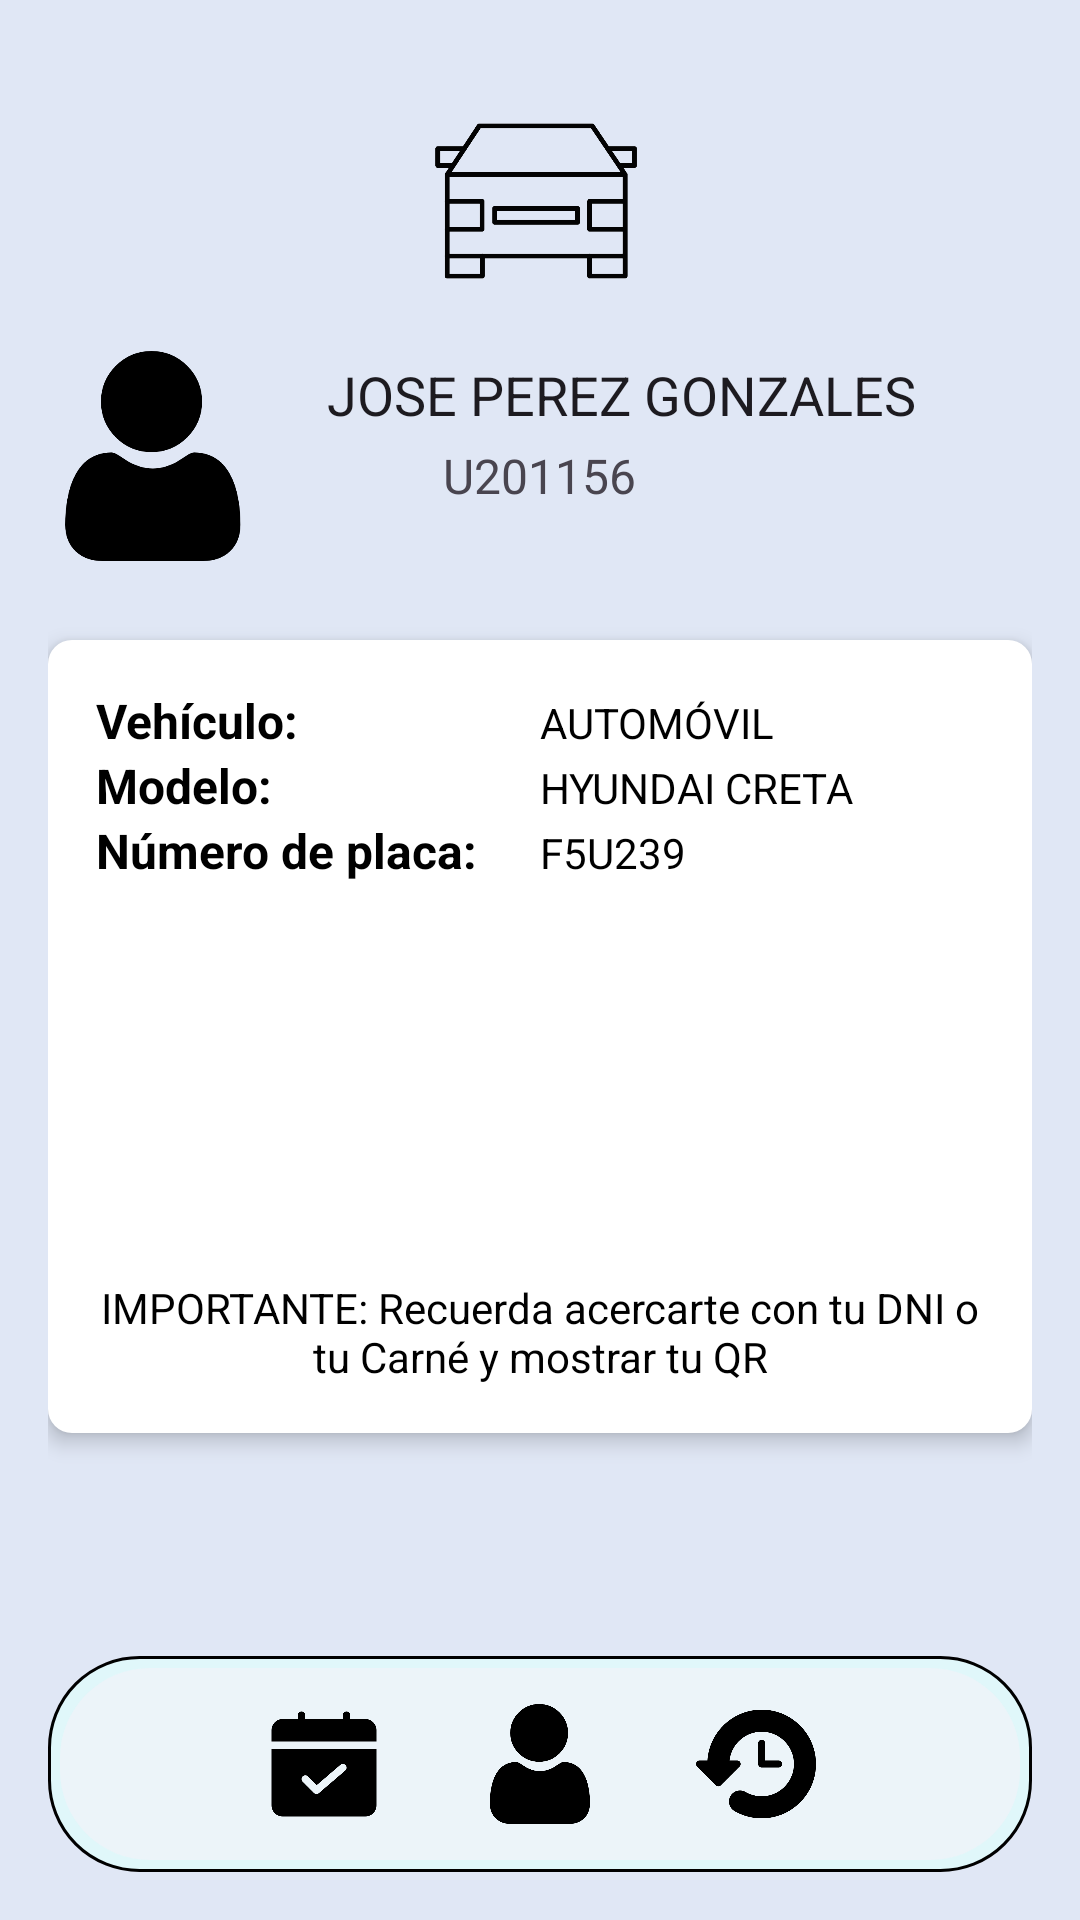

Named icons in this screenshot (1080 x 1920) and their centers, point (x, y):
calendar: point (324, 1764)
car: point (536, 201)
record: point (756, 1764)
user: point (153, 456), point (540, 1764)
